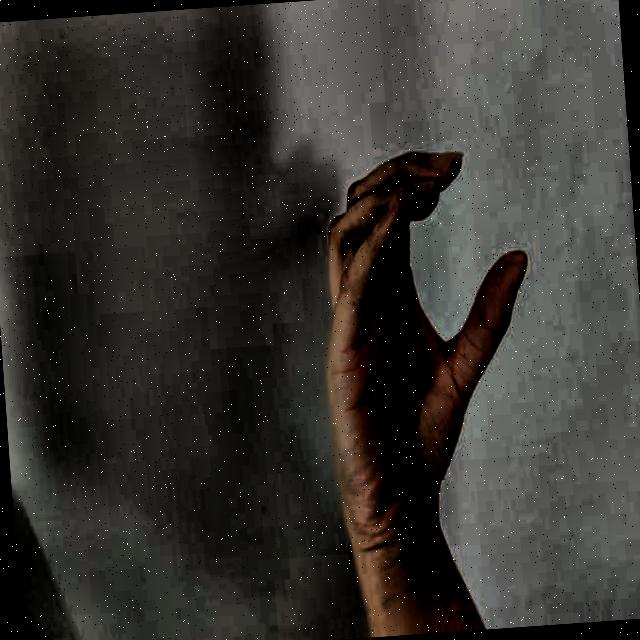A: (300, 122, 566, 584)
